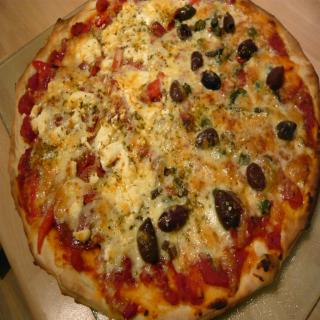Pizza: (5, 0, 319, 320)
